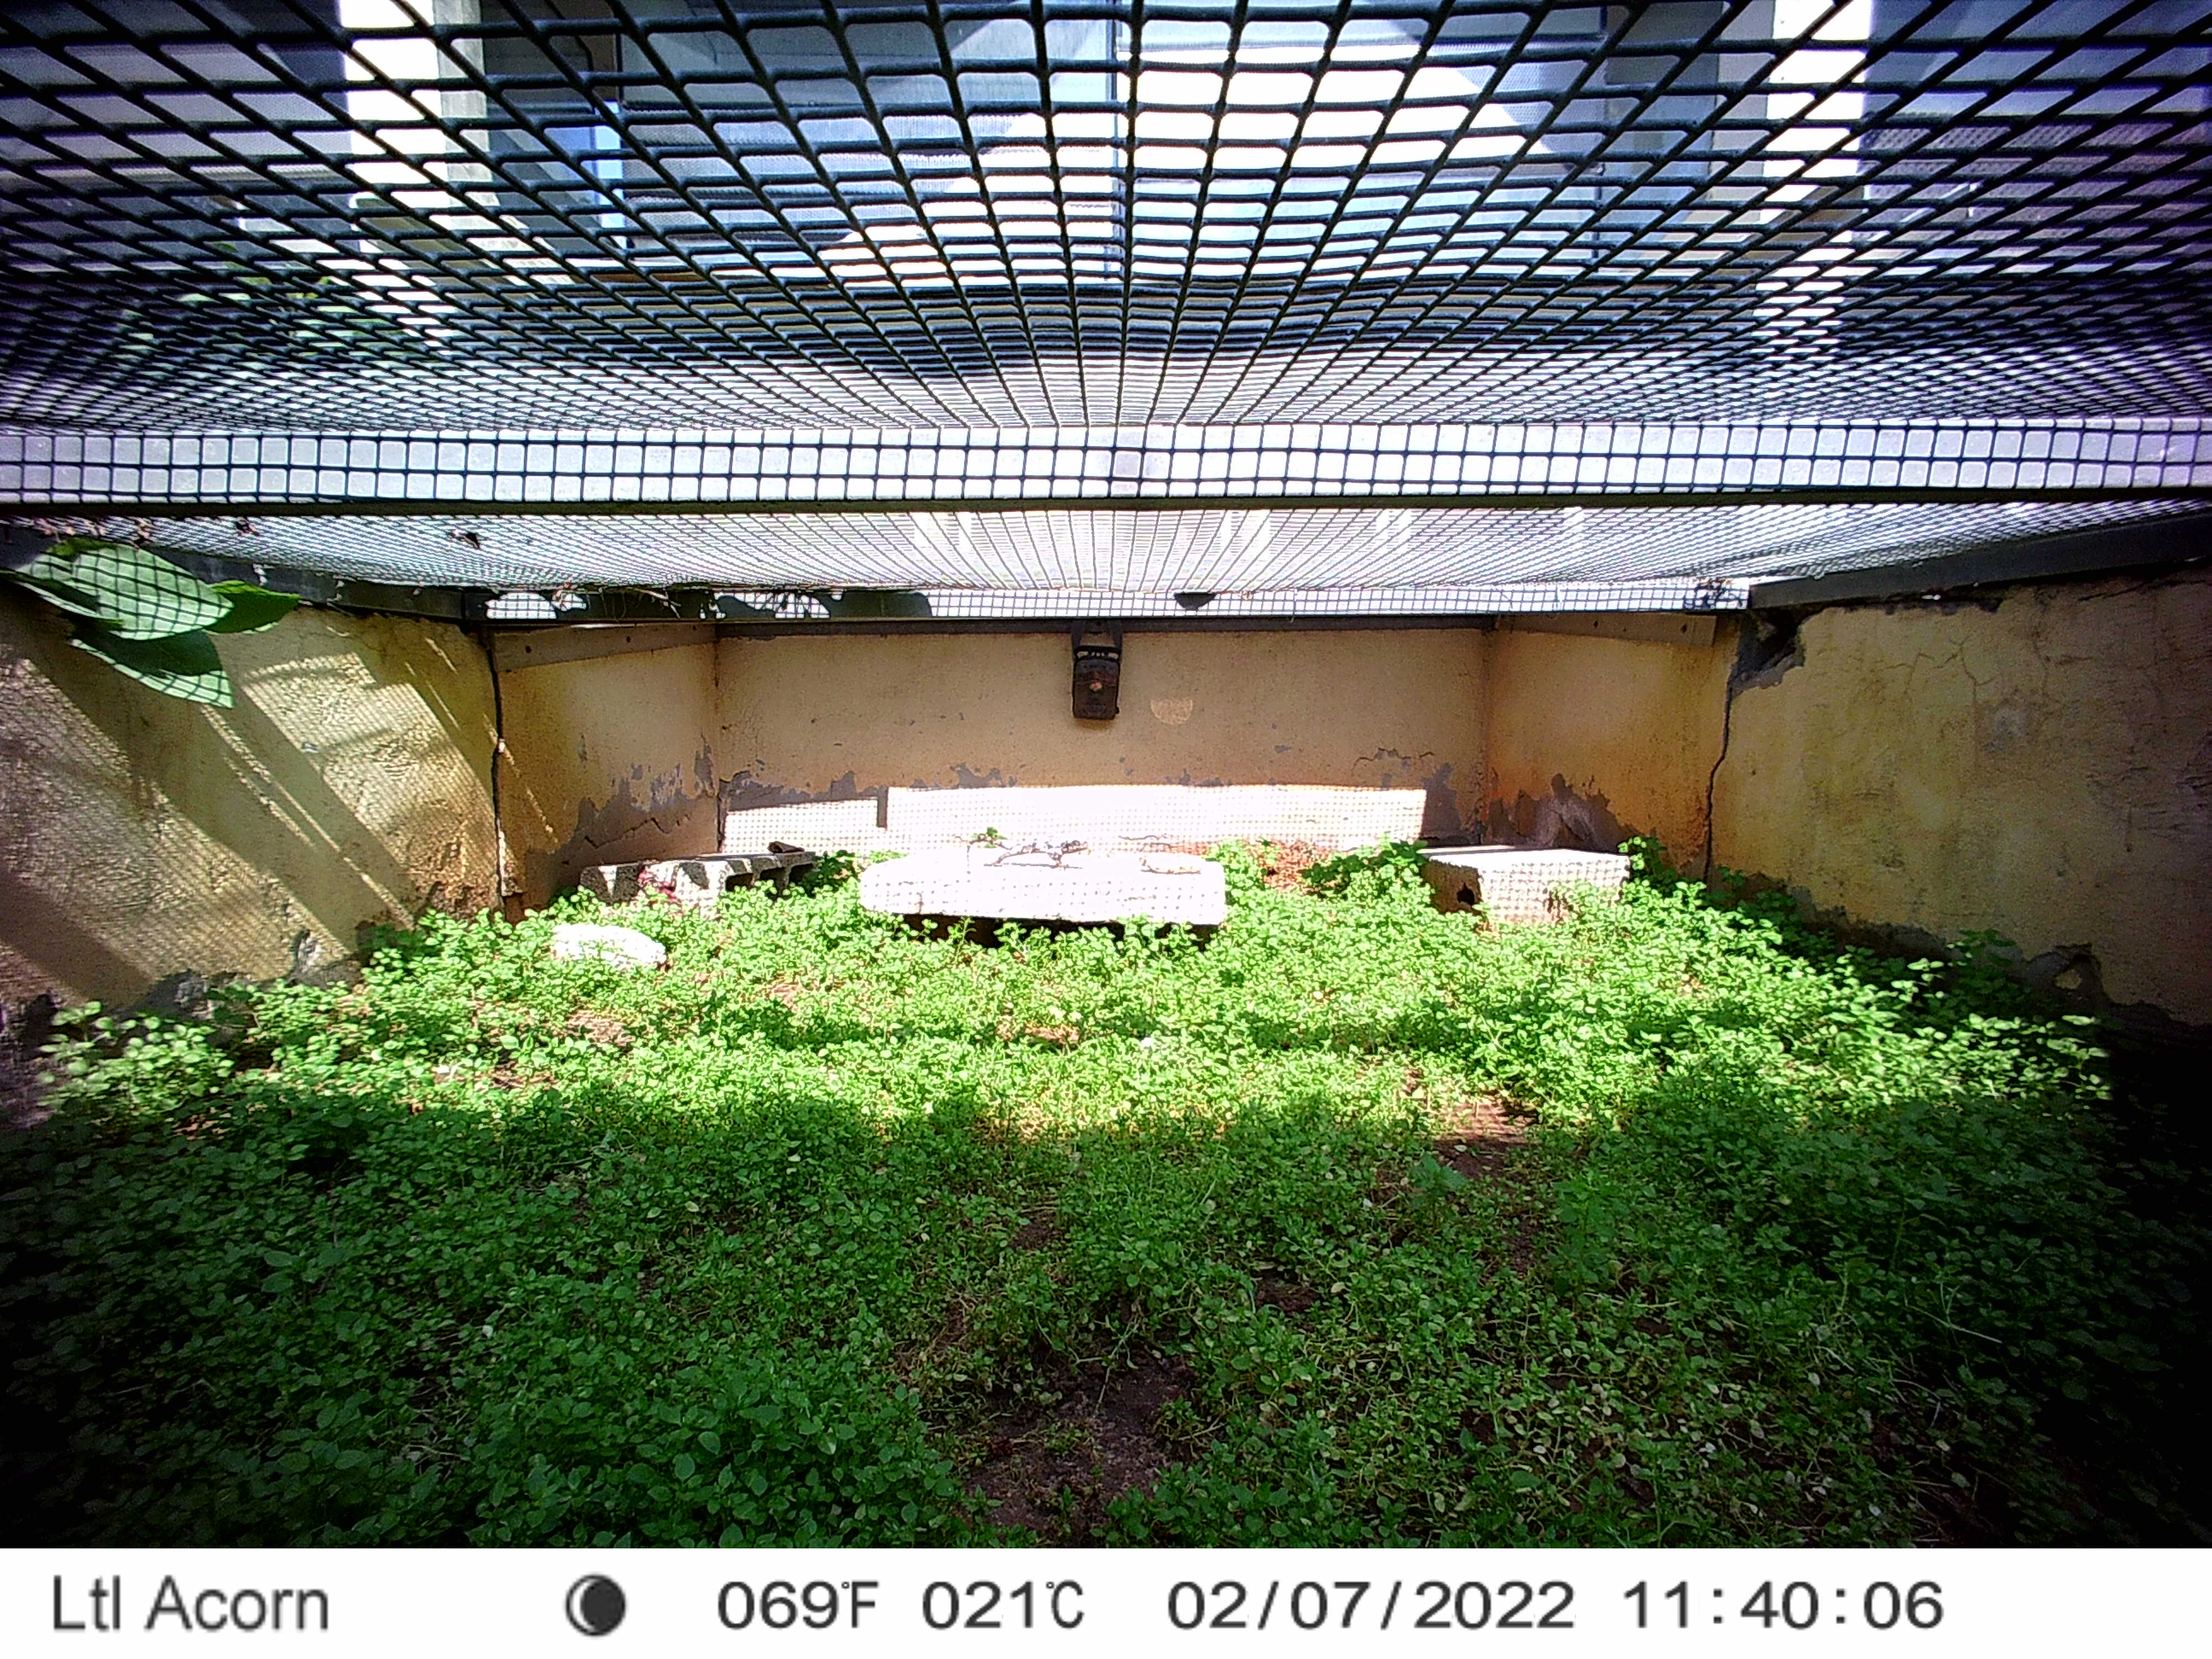lizard: (944, 831, 1101, 885), (624, 863, 702, 918)
